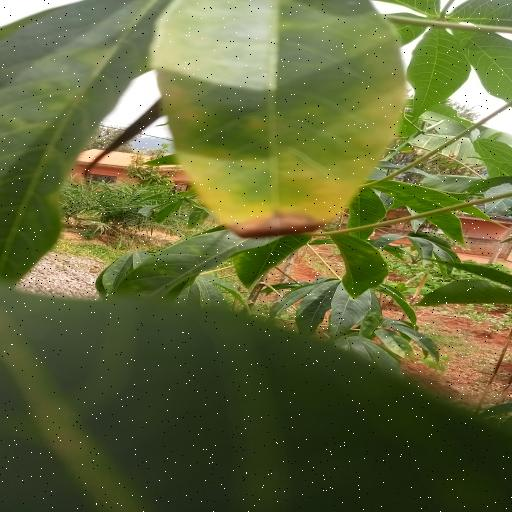Cassava_Bacterial_Disease: (145, 0, 409, 241)
